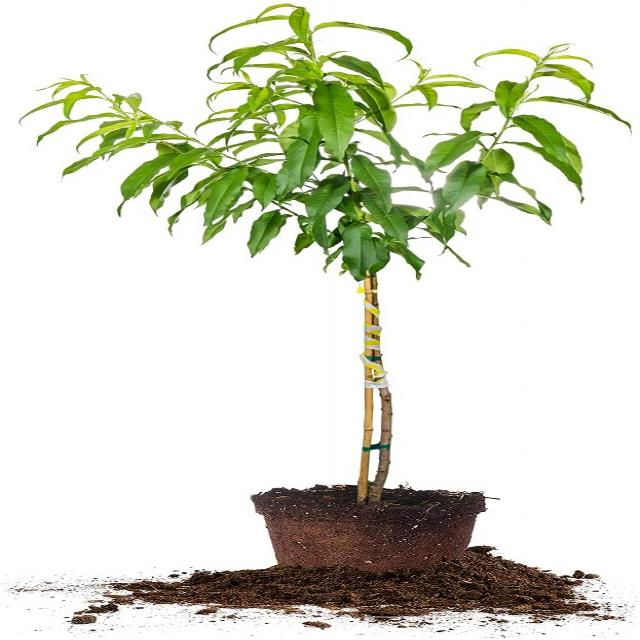Peach: (27, 3, 631, 269)
